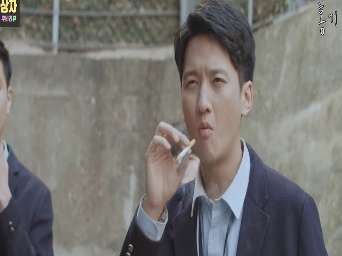smoke: (175, 138, 197, 160)
